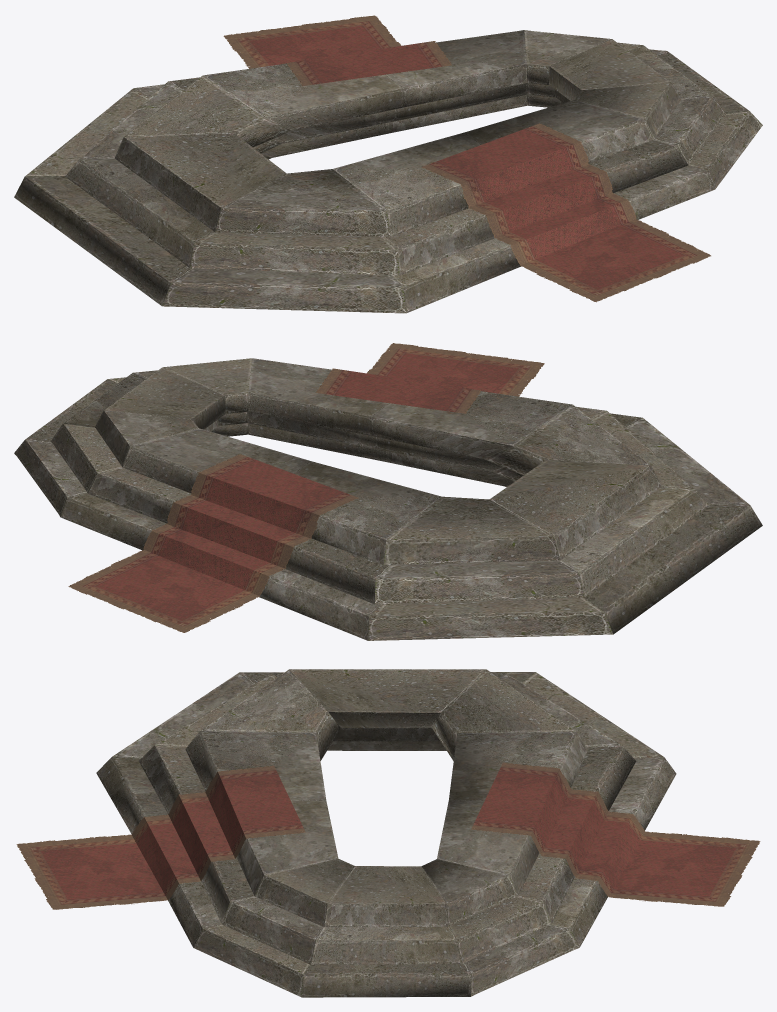
Rendered from bg_lut_lutomb_stair01_sm_old (2).FBX.
3 renders of one model, top to bottom at view 1: azimuth 30°, elevation 25°; view 2: azimuth 150°, elevation 25°; view 3: azimuth 270°, elevation 25°, orthographic.
Parts seen in each view (by area): view 1: bg_lut_lutomb_stair01_sm_old; view 2: bg_lut_lutomb_stair01_sm_old; view 3: bg_lut_lutomb_stair01_sm_old.
Part boxes in pixels (box(x1,y1,x2,y2)): bg_lut_lutomb_stair01_sm_old: box(14, 15, 762, 313); bg_lut_lutomb_stair01_sm_old: box(14, 343, 762, 640); bg_lut_lutomb_stair01_sm_old: box(16, 669, 760, 997).
Size of the model in its own units: 879 by 77.32 by 886.
